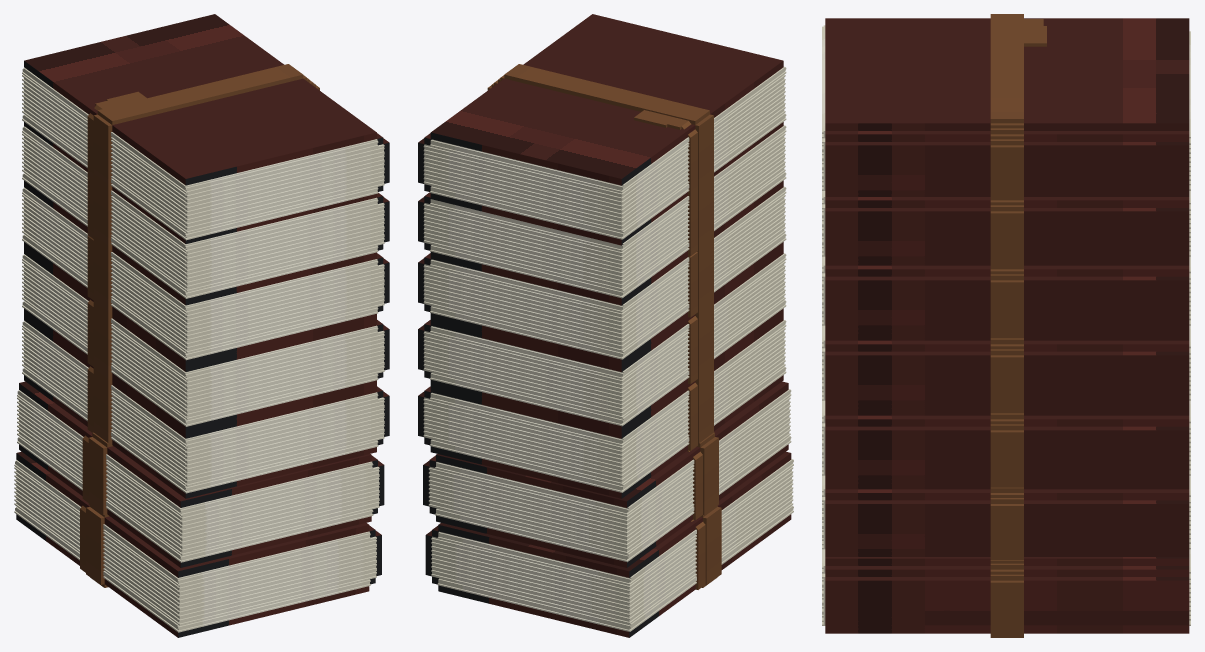
File: stack_of_books_7.gltf
3 views of the same model, side by side, from view 1: azimuth 30°, elevation 25°; view 2: azimuth 150°, elevation 25°; view 3: azimuth 270°, elevation 25° (orthographic). The views are drawn at different scales.
Parts seen in each view (by area): view 1: cube (×275); view 2: cube (×217); view 3: cube (×43).
Part boxes in pixels (<box>): cube (×275): <box>14,14,384,637</box>; cube (×217): <box>423,14,793,637</box>; cube (×43): <box>825,14,1189,633</box>.
Size of the model in its own units: 0.5375 by 1.09 by 0.6969.
3 materials, 3 textured.
